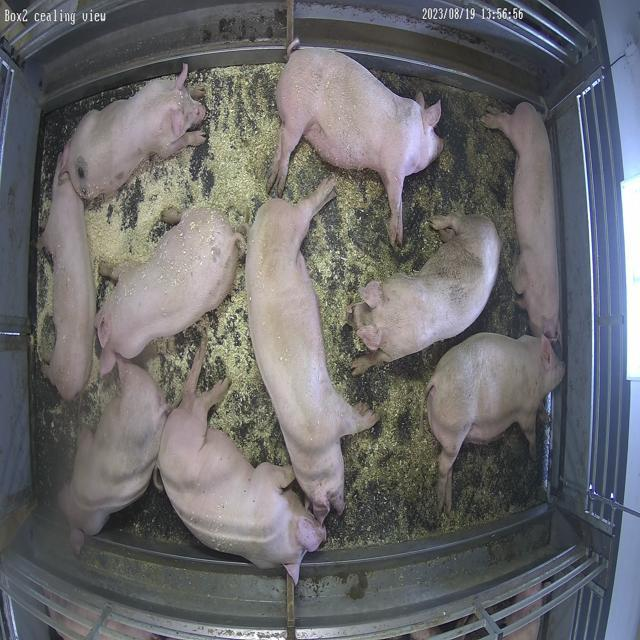Dirt: (328, 72, 546, 549)
Pig: (246, 177, 378, 524), (157, 340, 326, 584), (269, 47, 444, 246), (348, 213, 502, 376), (428, 333, 566, 514), (96, 210, 243, 376), (58, 360, 169, 552), (64, 63, 206, 200), (482, 102, 562, 342), (39, 169, 95, 400)
